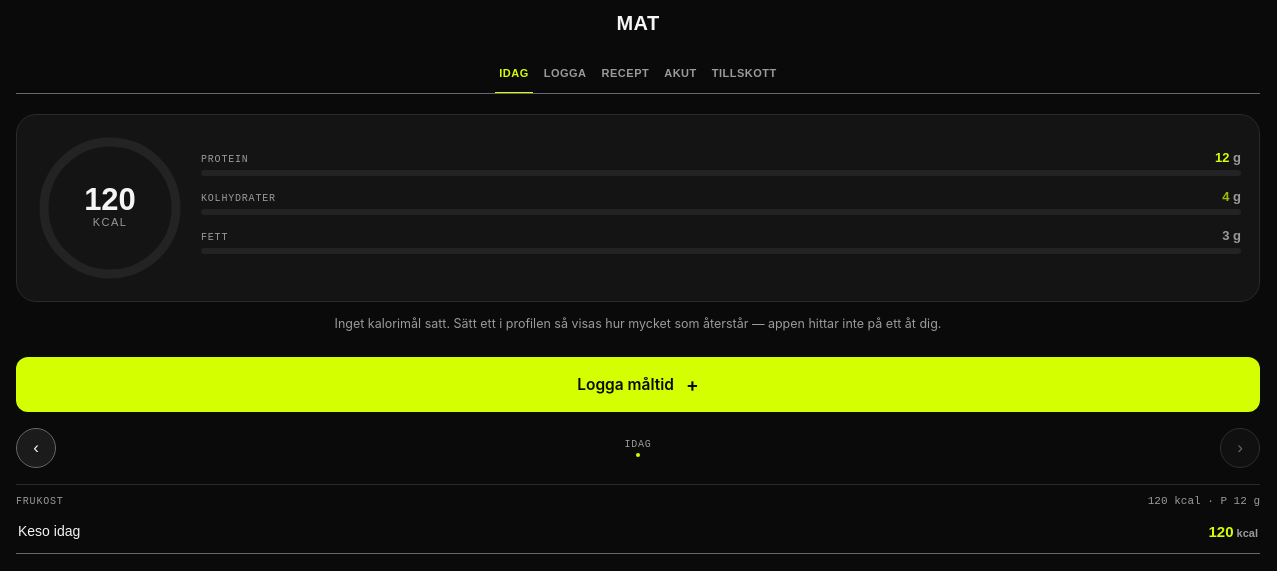
Scenario: matvyn: dagsväljare och flytt › en dag utan logg säger vilken dag som är tom
The width and height of the screenshot is (1277, 571).
Click the button "‹" at (36,448), box [16, 428, 56, 468]
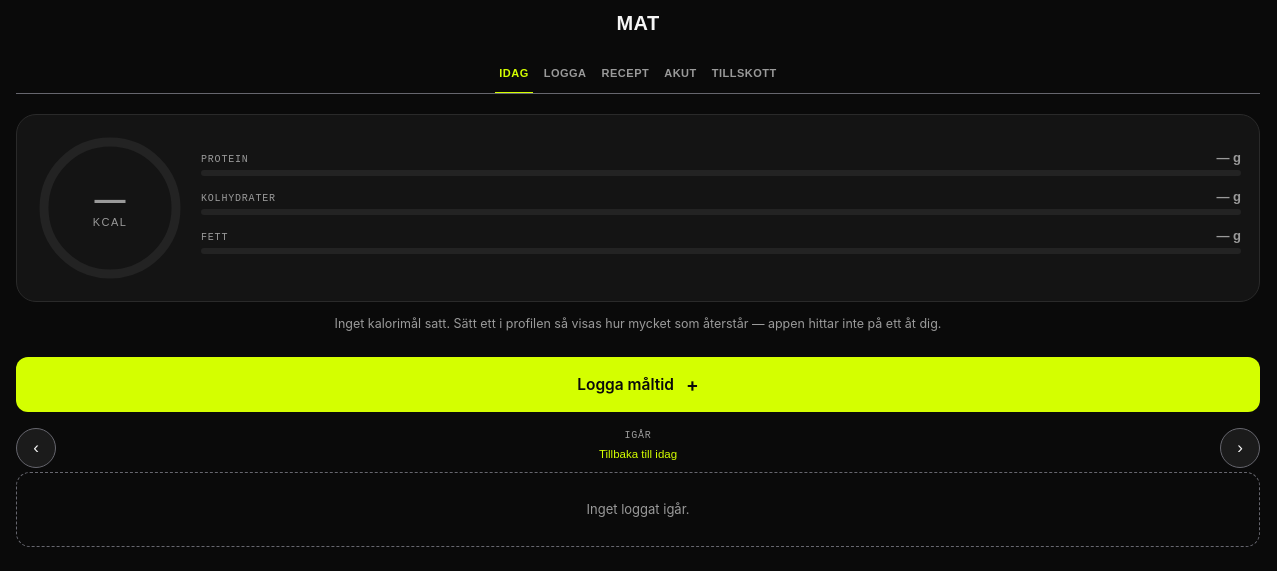
expect the text "Inget loggat" is shown: met, box [586, 501, 690, 517]
